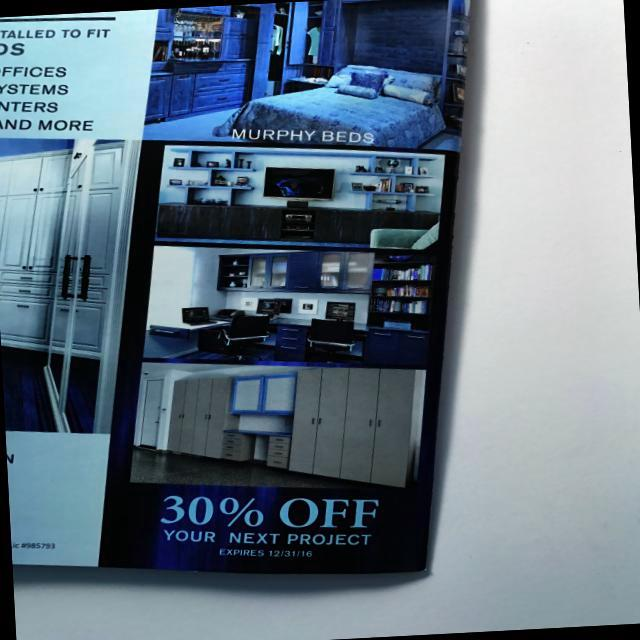paper: (0, 0, 529, 603)
